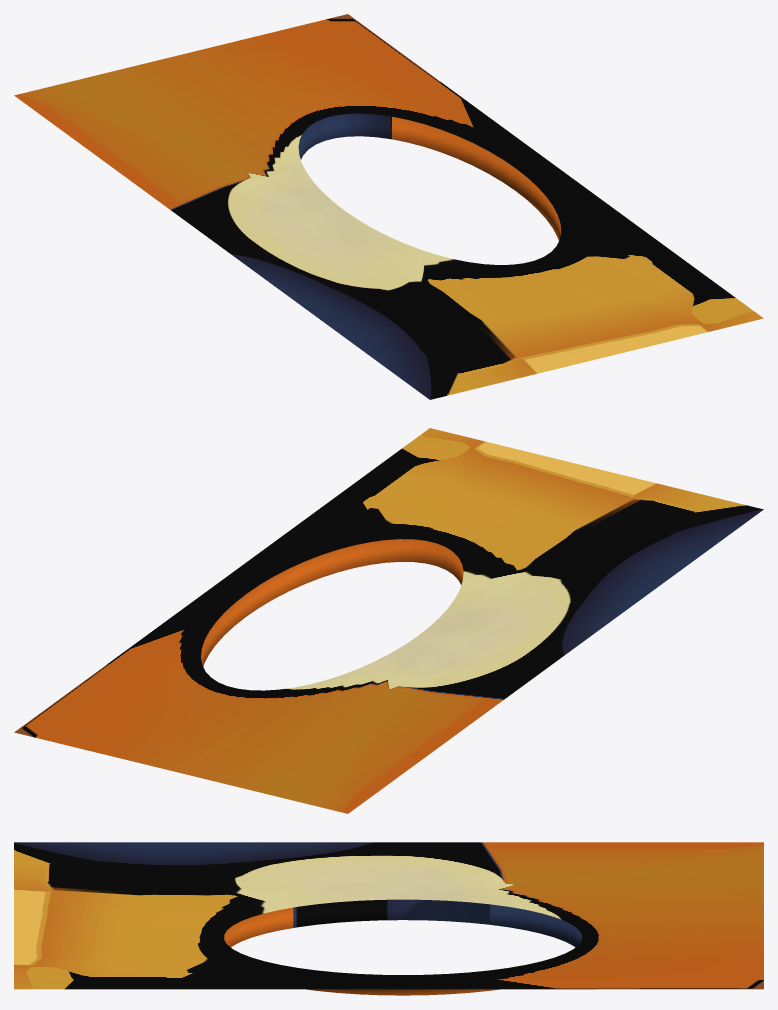
Rendered from floor.fbx.
3 views of the same model, one above another, from view 1: azimuth 30°, elevation 25°; view 2: azimuth 150°, elevation 25°; view 3: azimuth 270°, elevation 25° (orthographic). The views are drawn at different scales.
Parts seen in each view (by area): view 1: pCube21; view 2: pCube21; view 3: pCube21.
Boxes of the visible parts, x1,y1,x2,y2 form: pCube21: (14,14,763,399); pCube21: (14,428,763,813); pCube21: (14,842,763,995).
Size of the model in its own units: 507 by 32.94 by 1093.
